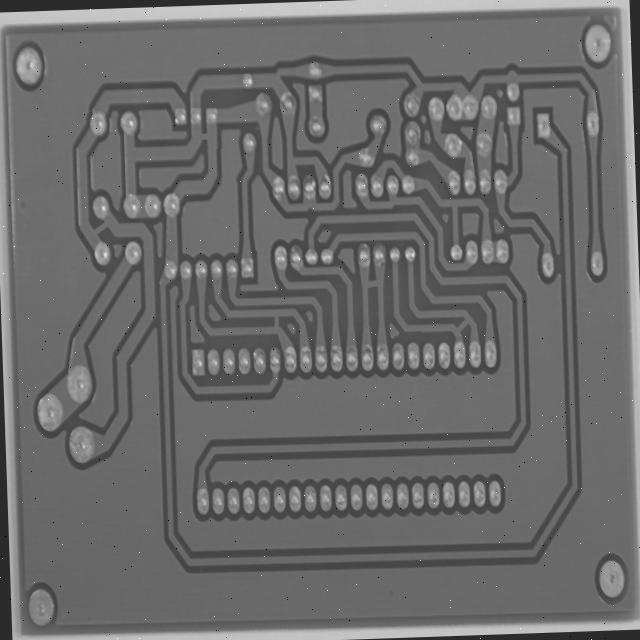short: (91, 255, 126, 295), (488, 375, 520, 415), (207, 147, 237, 183), (287, 372, 316, 407), (392, 330, 422, 363)
